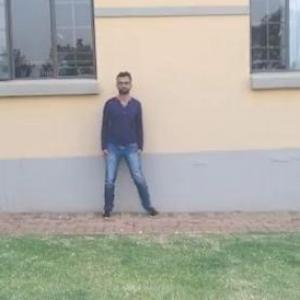follow: (98, 69, 144, 220)
